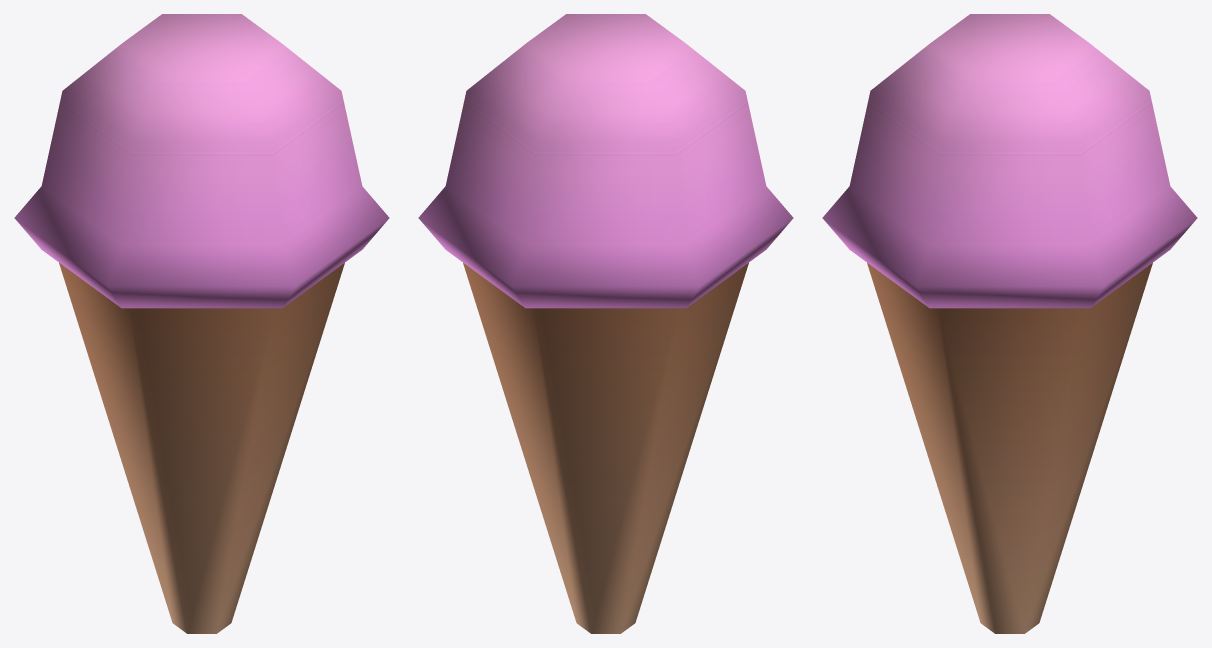
Rendered from ice_cream.glb.
3 renders of one model, left to right at view 1: azimuth 30°, elevation 25°; view 2: azimuth 150°, elevation 25°; view 3: azimuth 270°, elevation 25°, orthographic.
Parts seen in each view (by area): view 1: ice-cream; view 2: ice-cream; view 3: ice-cream.
Part boxes in pixels (left/top/right/bottom): ice-cream: left=14, top=14, right=389, bottom=633; ice-cream: left=418, top=14, right=793, bottom=633; ice-cream: left=822, top=14, right=1197, bottom=633.
Bounding box in the file's own units: 0.2353 × 0.4632 × 0.2716.
1 material, 1 textured.
